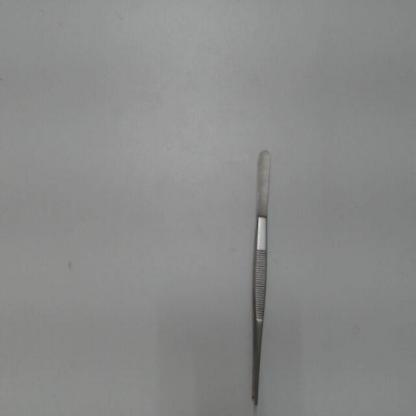Gillies Toothed Dissector: (249, 139, 276, 409)
